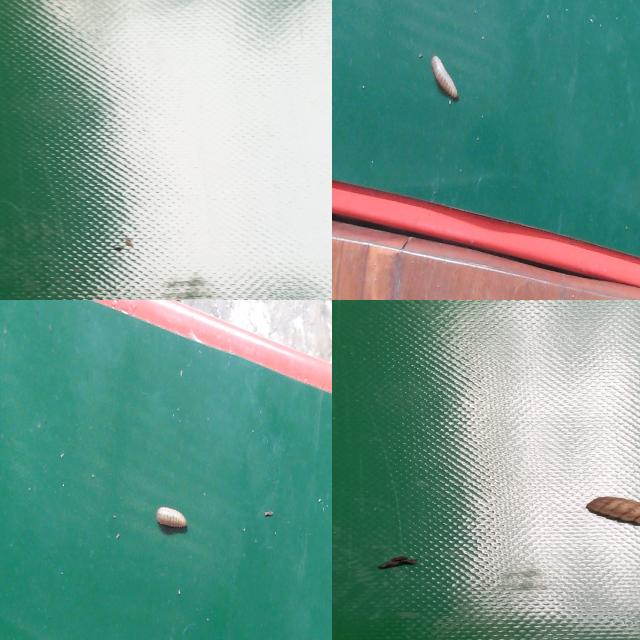Maggot: (586, 497, 640, 528), (430, 57, 460, 105), (156, 505, 188, 535)
